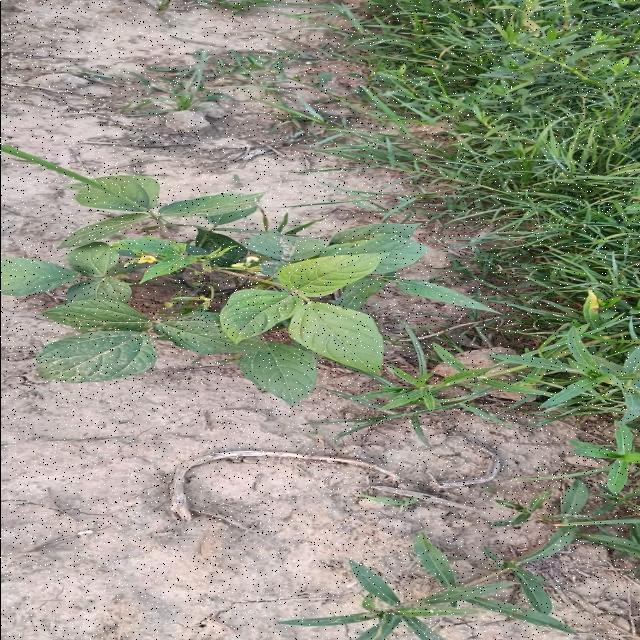plant: (1, 143, 492, 405)
